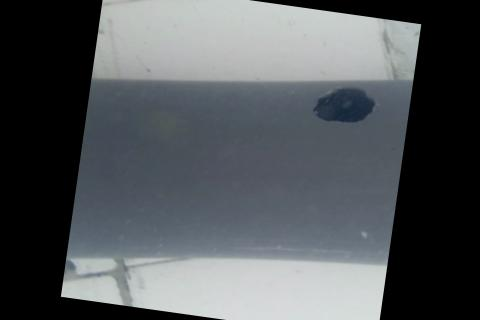kebocoran: (308, 80, 377, 130)
